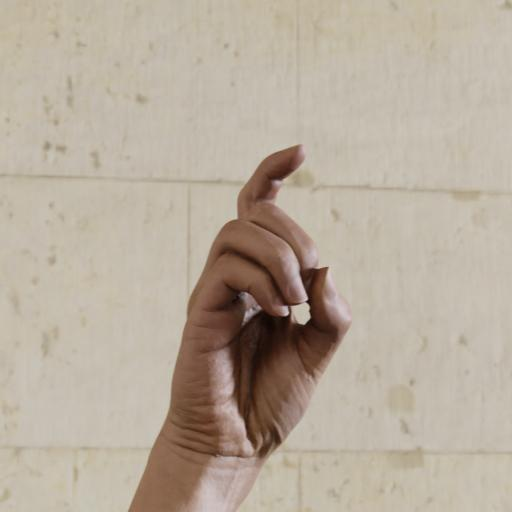X: (146, 136, 368, 472)
